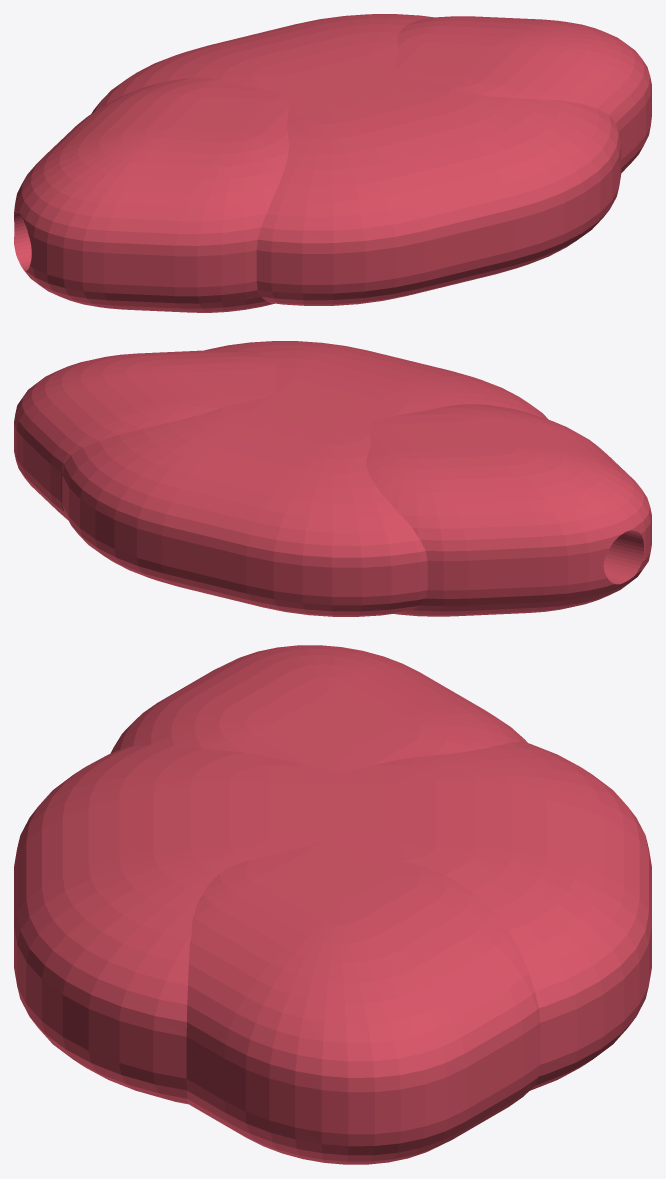
The model's file is glasses-tips.glb.
3 renders of one model, top to bottom at view 1: azimuth 30°, elevation 25°; view 2: azimuth 150°, elevation 25°; view 3: azimuth 270°, elevation 25°, orthographic. The views are drawn at different scales.
Visible parts, largest first — view 1: Mesh_Mesh_head_geo.001_lambert2SG.001; view 2: Mesh_Mesh_head_geo.001_lambert2SG.001; view 3: Mesh_Mesh_head_geo.001_lambert2SG.001.
Boxes of the visible parts, <box> form: Mesh_Mesh_head_geo.001_lambert2SG.001: <box>14,14,651,312</box>; Mesh_Mesh_head_geo.001_lambert2SG.001: <box>14,341,651,616</box>; Mesh_Mesh_head_geo.001_lambert2SG.001: <box>14,645,651,1164</box>.
Size of the model in its own units: 0.017 by 0.004 by 0.011.
